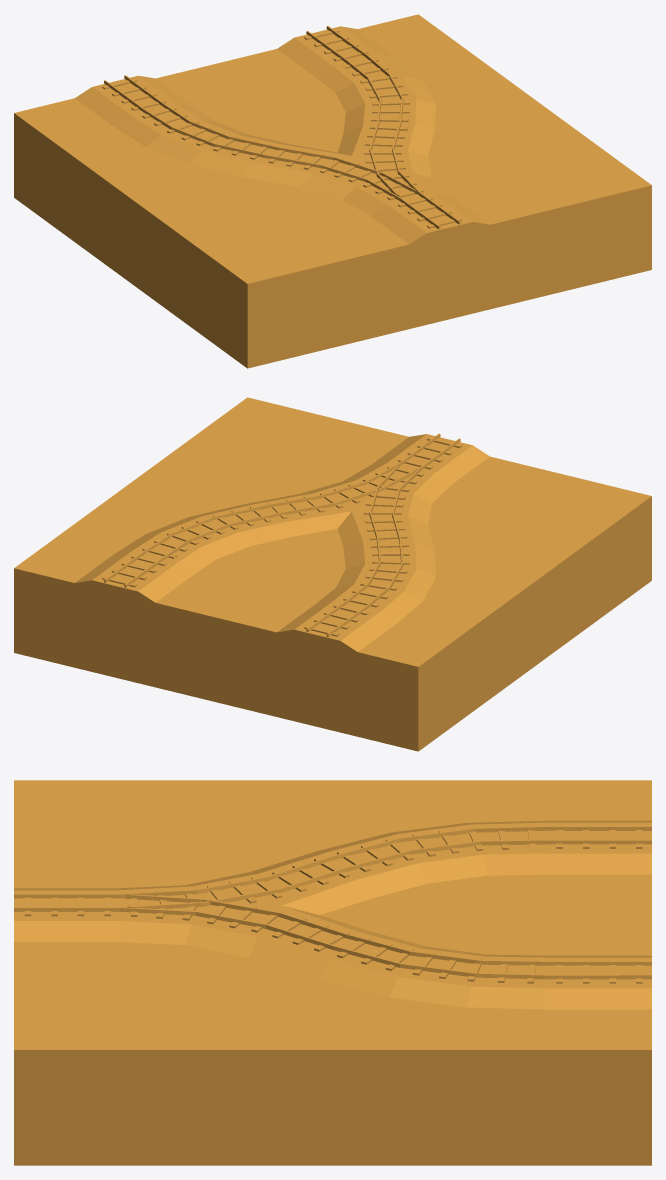
Rendered from tile-rail-conjunction.glb.
3 views of the same model, one above another, from view 1: azimuth 30°, elevation 25°; view 2: azimuth 150°, elevation 25°; view 3: azimuth 270°, elevation 25° (orthographic). The views are drawn at different scales.
Parts seen in each view (by area): view 1: tile-rail-conjunction; view 2: tile-rail-conjunction; view 3: tile-rail-conjunction.
Part boxes in pixels (x1,y1,x2,y2): tile-rail-conjunction: (14,14,651,368); tile-rail-conjunction: (14,397,651,751); tile-rail-conjunction: (14,780,651,1165).
Size of the model in its own units: 30 by 6.75 by 30.
